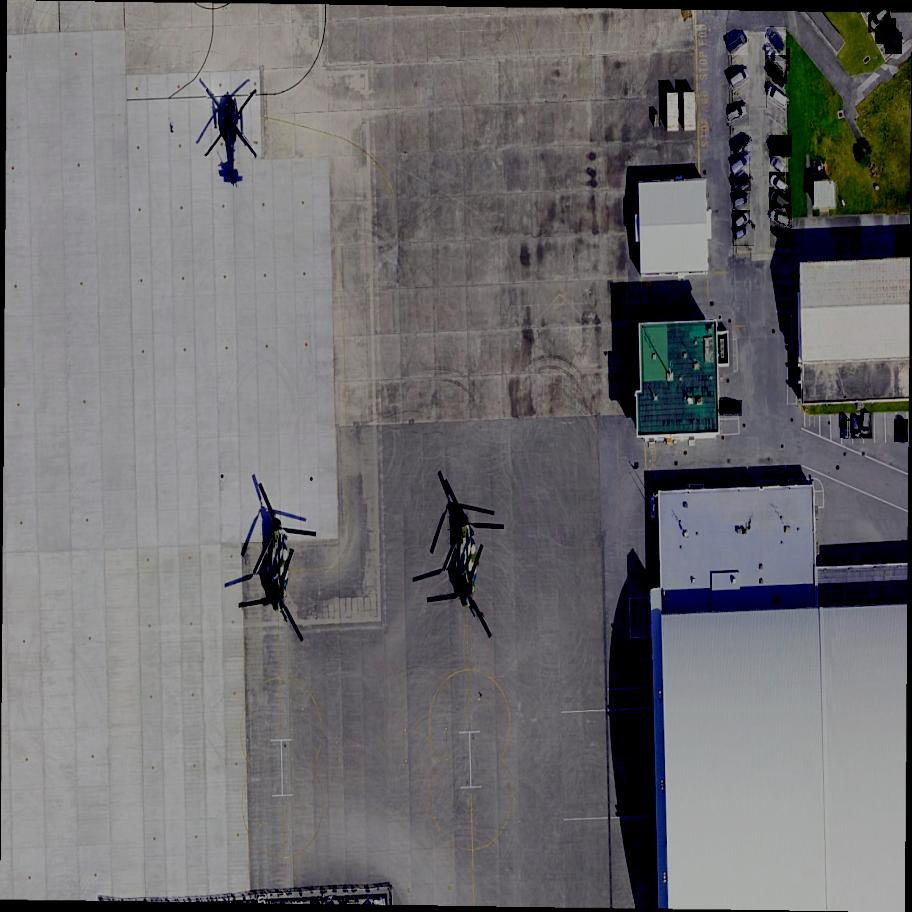large-vehicle: (861, 412, 875, 439), (851, 415, 864, 440)
small-vehicle: (764, 61, 790, 92), (763, 48, 793, 72), (768, 224, 795, 250), (765, 27, 790, 55), (764, 84, 792, 109), (767, 189, 794, 214), (766, 135, 796, 157), (725, 31, 751, 56), (768, 173, 794, 198), (875, 18, 899, 45), (730, 132, 755, 157), (726, 67, 753, 90), (868, 8, 892, 33), (724, 105, 751, 126), (731, 225, 757, 246), (729, 155, 753, 177), (730, 210, 754, 232), (731, 171, 755, 192), (883, 32, 904, 55), (770, 209, 795, 228), (768, 156, 789, 177), (718, 400, 742, 417), (731, 193, 753, 209), (895, 419, 909, 443), (841, 418, 849, 438)
